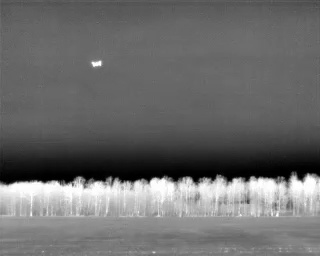DRONE: (87, 55, 108, 73)
